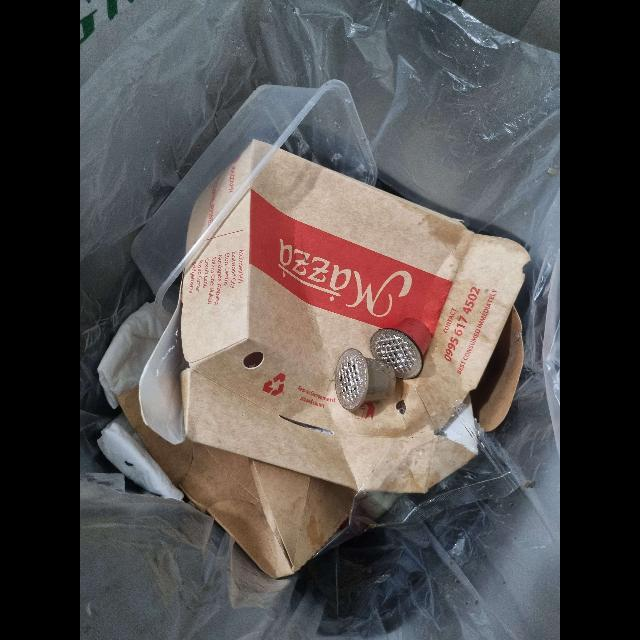paper: (138, 141, 531, 495), (117, 385, 356, 579)
plastic: (130, 78, 378, 324), (335, 348, 396, 410), (370, 318, 431, 379)
